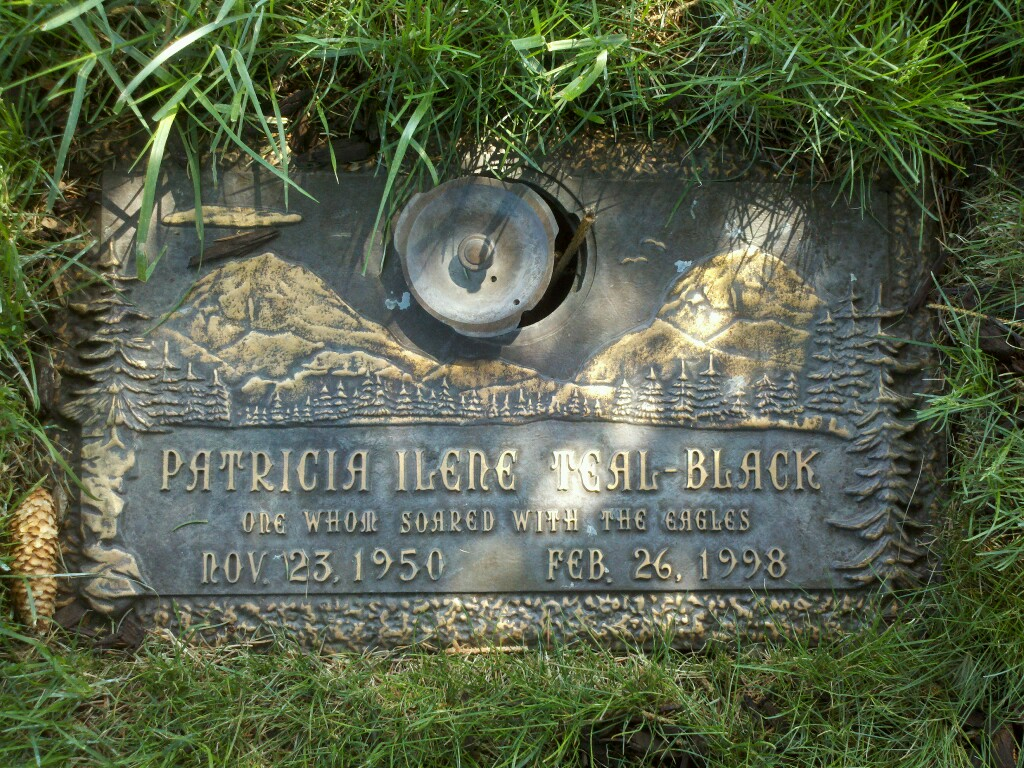flat: (80, 105, 936, 651)
